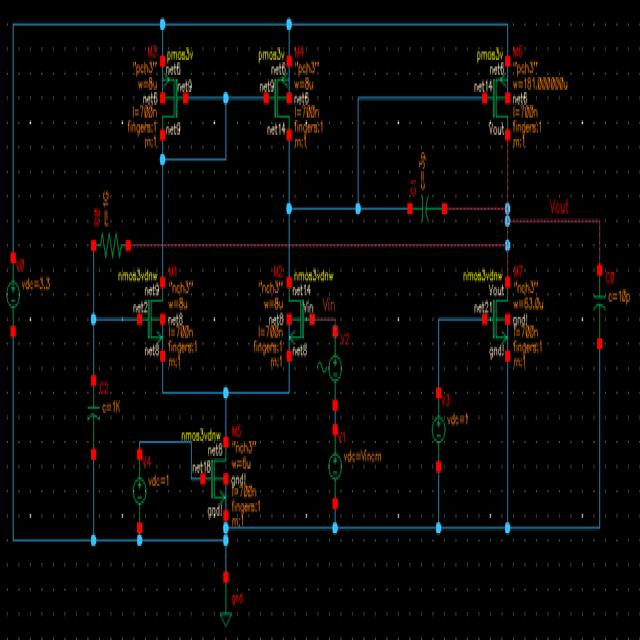cap: (404, 188, 450, 228), (85, 374, 102, 463), (591, 265, 608, 351)
nmos: (481, 275, 512, 363), (285, 271, 315, 360), (137, 278, 167, 360), (200, 437, 229, 520)
pmos: (258, 49, 294, 148), (476, 50, 511, 143), (159, 48, 191, 142)
res: (91, 228, 132, 262)
vdc: (315, 327, 344, 410), (324, 425, 344, 511), (129, 450, 149, 532), (5, 250, 23, 339), (430, 388, 447, 478)
